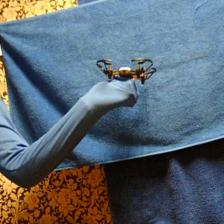drone: (97, 60, 158, 86)
